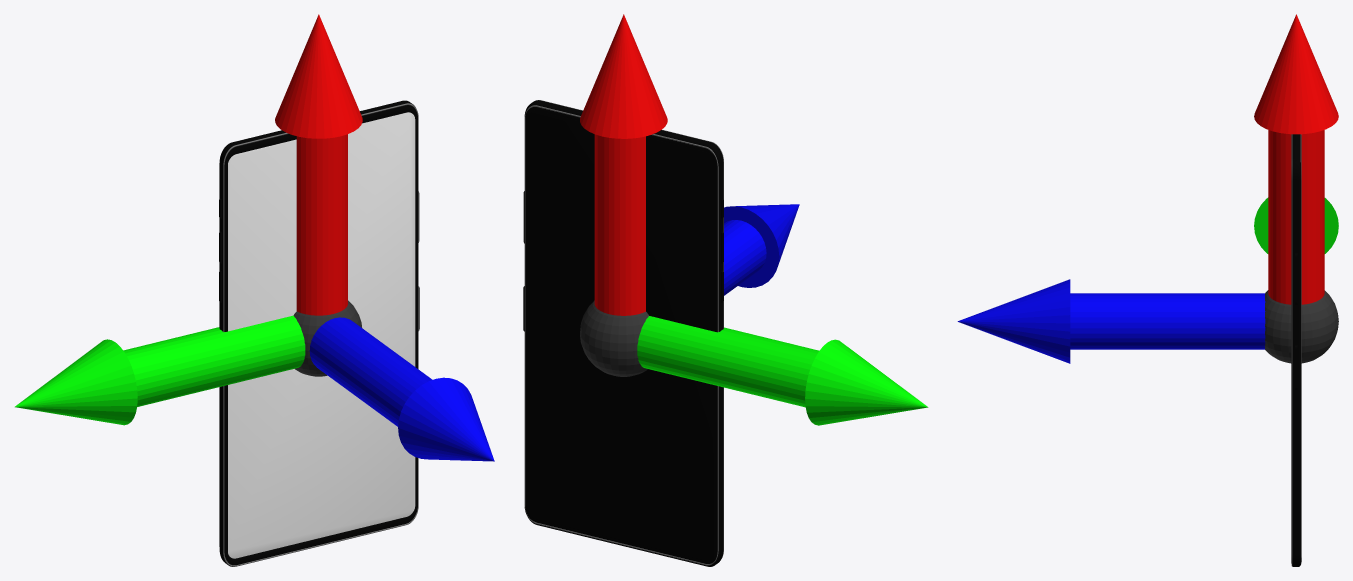
Rendered from phone.glb.
3 views of the same model, side by side, from view 1: azimuth 30°, elevation 25°; view 2: azimuth 150°, elevation 25°; view 3: azimuth 270°, elevation 25° (orthographic). The views are drawn at different scales.
Parts seen in each view (by area): view 1: phone, y, x, z, origin; view 2: phone, y, x, z, origin; view 3: z, x, phone, origin, y.
Boxes of the visible parts, <box> form: phone: <box>219,100,419,566</box>; y: <box>15,315,305,425</box>; x: <box>275,14,362,315</box>; z: <box>309,317,494,461</box>; origin: <box>293,300,361,376</box>; phone: <box>523,100,723,566</box>; y: <box>637,316,928,425</box>; x: <box>580,14,667,315</box>; z: <box>724,204,799,295</box>; origin: <box>580,300,648,376</box>; z: <box>957,279,1265,363</box>; x: <box>1254,14,1338,304</box>; phone: <box>1291,134,1301,566</box>; origin: <box>1265,290,1338,363</box>; y: <box>1254,197,1338,253</box>.
Bounding box in the file's own units: 0.7967 × 0.9986 × 0.675.
